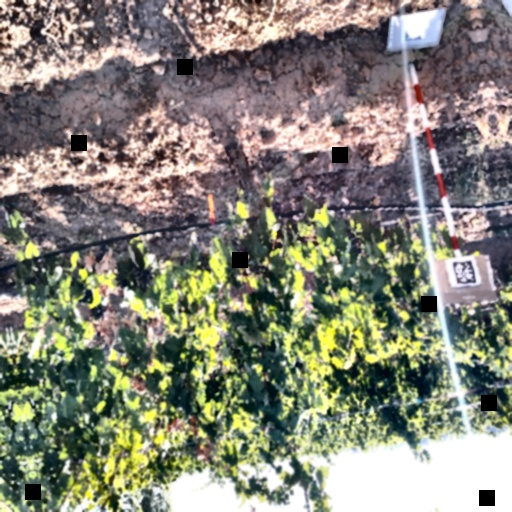QR: (452, 258, 478, 287)
